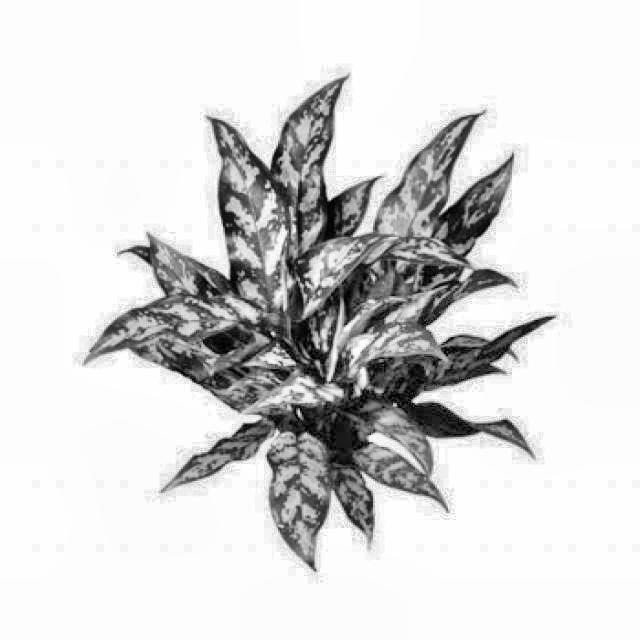plants: (108, 72, 553, 552)
